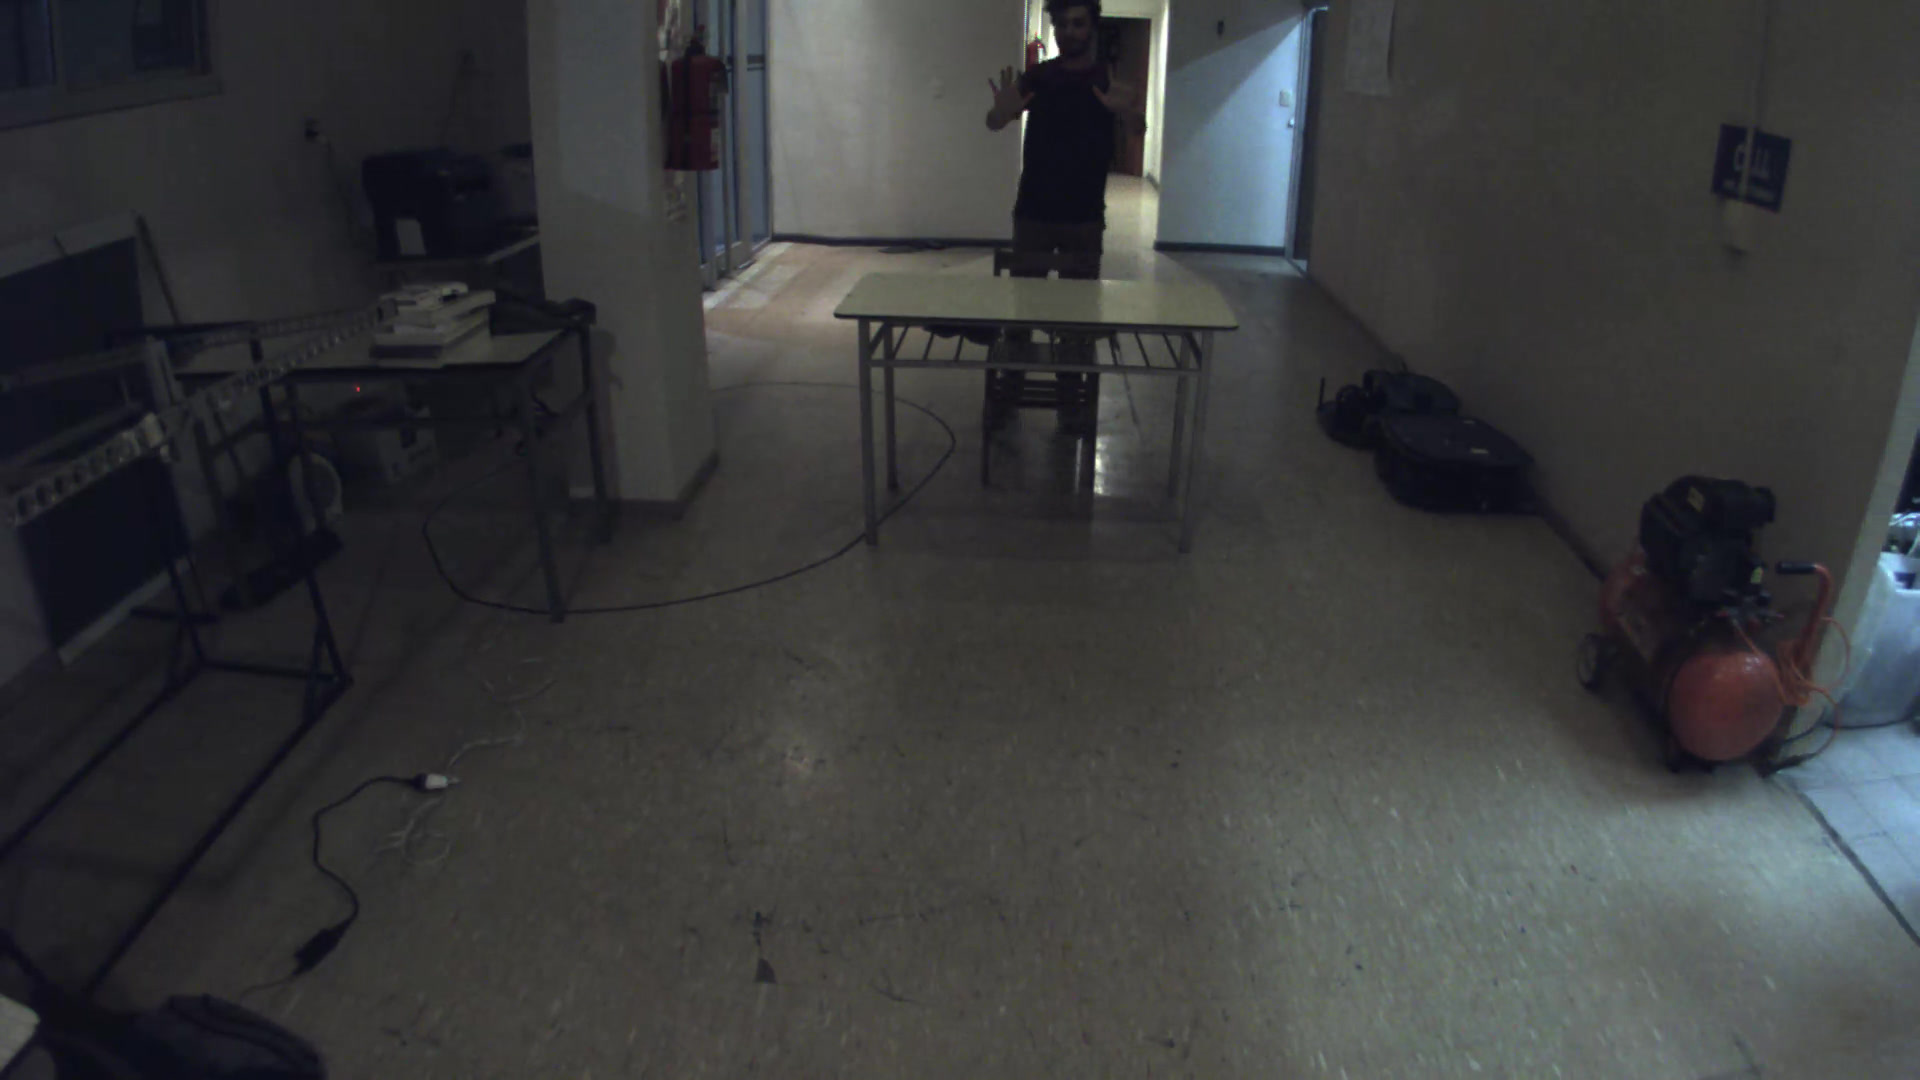hand: (976, 55, 1038, 132), (1083, 50, 1149, 115)
